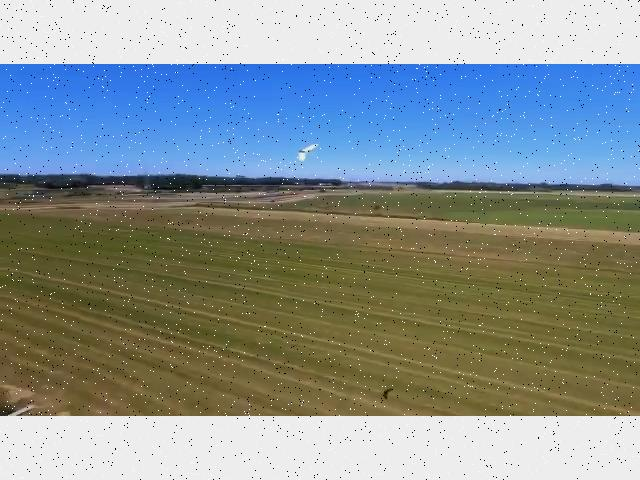Anti-Drone: (288, 130, 324, 167)
